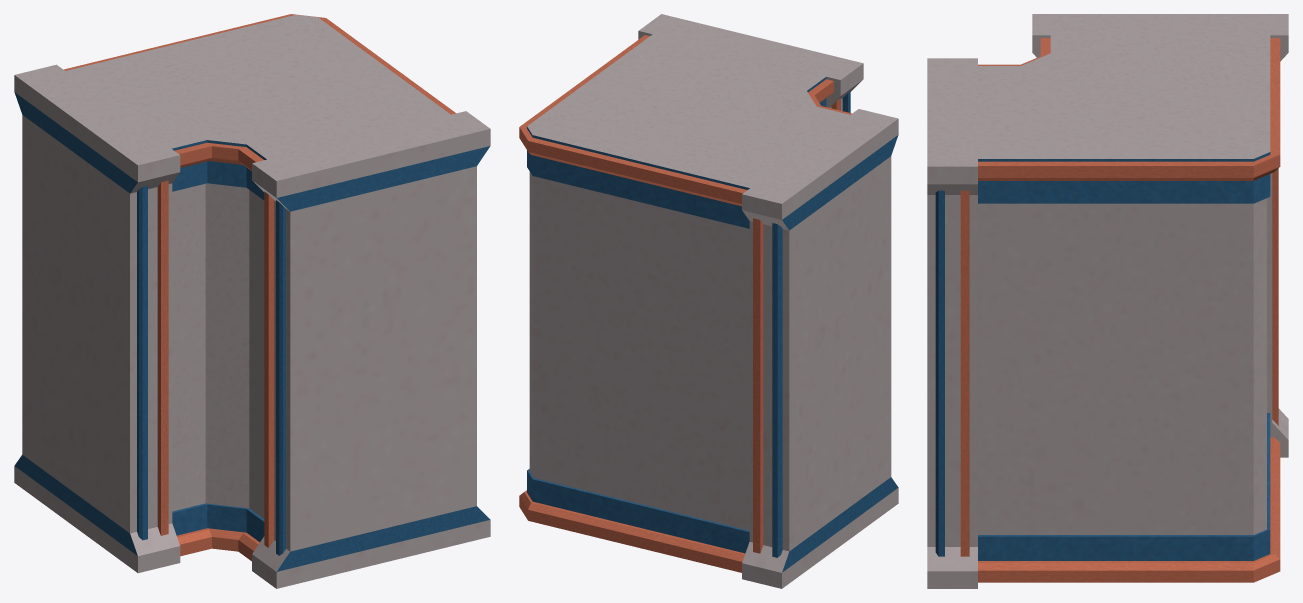
File: CornerWall01.fbx
3 views of the same model, side by side, from view 1: azimuth 30°, elevation 25°; view 2: azimuth 150°, elevation 25°; view 3: azimuth 270°, elevation 25° (orthographic). The views are drawn at different scales.
Visible parts, largest first — view 1: CornerWall; view 2: CornerWall; view 3: CornerWall.
Boxes of the visible parts, x1,y1,x2,y2 form: CornerWall: (14, 14, 490, 588); CornerWall: (519, 14, 898, 588); CornerWall: (927, 14, 1288, 588).
Size of the model in its own units: 775 by 1000 by 775.
